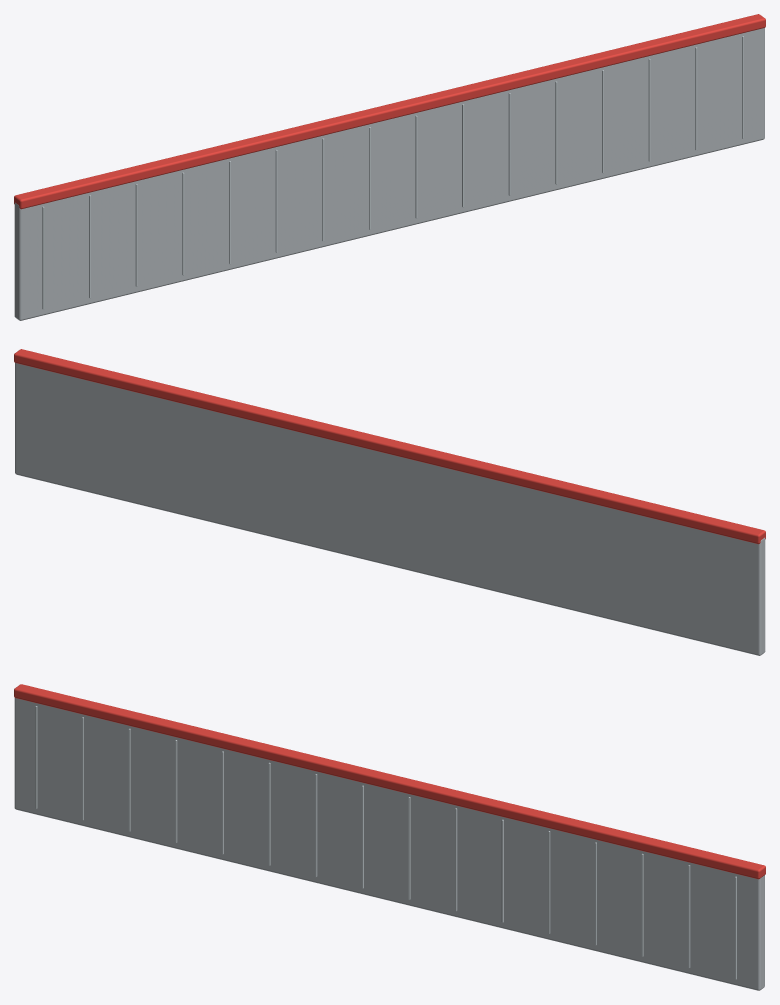
The model's file is squash-club-and-racket-workshop-tin-lower-wall-panel-e77e367f__29740.glb.
The picture shows the model from 3 angles, top to bottom: view 1: azimuth 30°, elevation 25°; view 2: azimuth 150°, elevation 25°; view 3: azimuth 330°, elevation 25°; orthographic projection.
Visible parts, largest first — view 1: tin-lower-wall-panel; view 2: tin-lower-wall-panel; view 3: tin-lower-wall-panel.
Boxes of the visible parts, bbox=[...] form: tin-lower-wall-panel: bbox=[14, 14, 765, 320]; tin-lower-wall-panel: bbox=[14, 349, 765, 655]; tin-lower-wall-panel: bbox=[14, 684, 765, 990].
Size of the model in its own units: 3.2 by 0.5 by 0.057.
